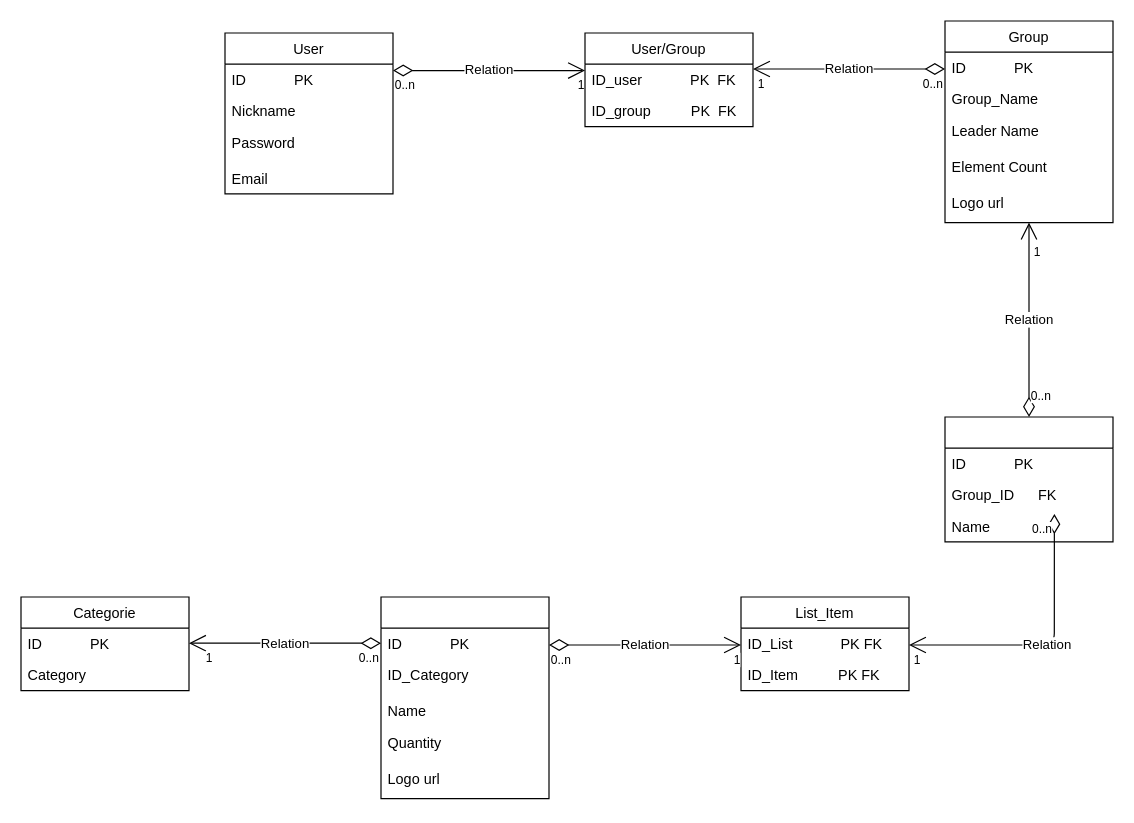
Image size: 1134x823. Some labels were removed from this diagram. The shapes that lost their labels are listed below. From the top down, each one's box as (x1, y1, x2, y2) in pixels, then its label:
(944, 416, 1113, 542): List
(380, 596, 549, 799): Item
